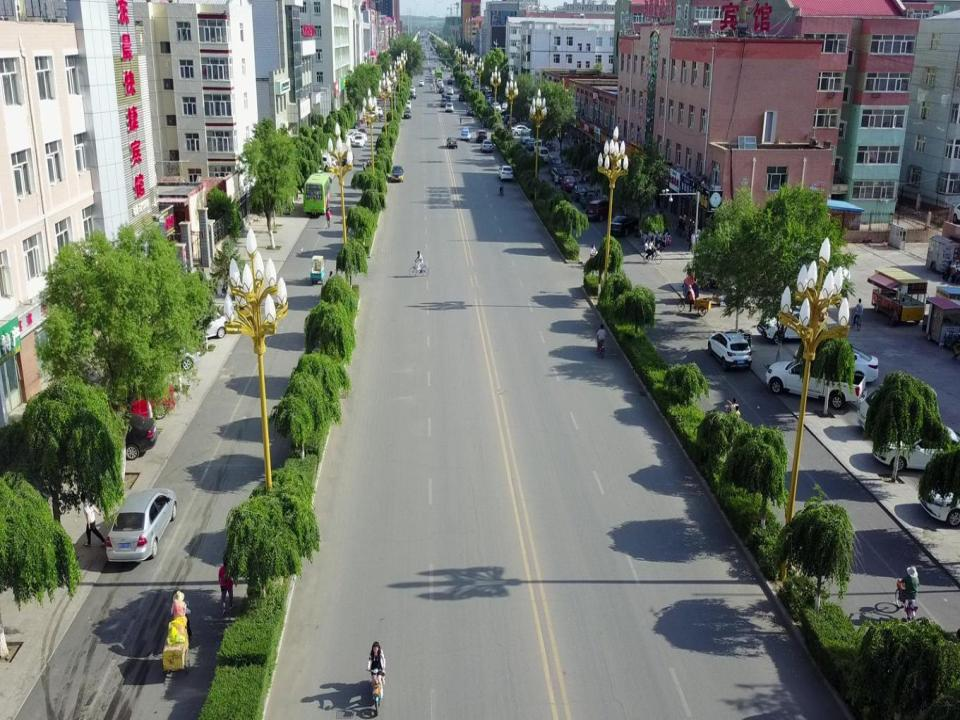bus: (303, 172, 332, 216)
car: (40, 410, 158, 461), (66, 376, 176, 428), (104, 487, 178, 564), (872, 424, 960, 472), (793, 341, 879, 384), (101, 339, 202, 375), (136, 310, 228, 346), (757, 307, 828, 345), (707, 330, 752, 373), (608, 215, 641, 237), (585, 199, 615, 222), (304, 154, 336, 172), (341, 131, 368, 143), (570, 184, 588, 202), (560, 175, 578, 193), (551, 166, 569, 184), (510, 125, 533, 137), (498, 165, 514, 182), (390, 164, 404, 182), (514, 121, 534, 133), (337, 120, 361, 129), (342, 150, 355, 166), (352, 134, 366, 146), (460, 128, 472, 141), (476, 129, 487, 143), (480, 140, 492, 152), (446, 136, 458, 148), (525, 138, 537, 150), (357, 127, 367, 141), (502, 101, 517, 109), (500, 109, 514, 117), (403, 109, 412, 120), (445, 103, 454, 113), (504, 114, 513, 124), (466, 106, 474, 117), (407, 91, 416, 100), (493, 102, 502, 111), (509, 118, 518, 127), (404, 100, 412, 109), (408, 86, 416, 93), (459, 93, 465, 102), (447, 88, 454, 94), (419, 79, 424, 87), (438, 88, 444, 93), (448, 79, 451, 85), (450, 74, 454, 78)
truck: (764, 358, 867, 410)
van: (856, 378, 940, 436), (548, 154, 563, 174), (537, 146, 549, 164), (534, 138, 544, 154), (520, 129, 530, 145), (440, 98, 448, 107), (441, 92, 448, 101), (445, 95, 451, 105), (434, 58, 438, 62)
